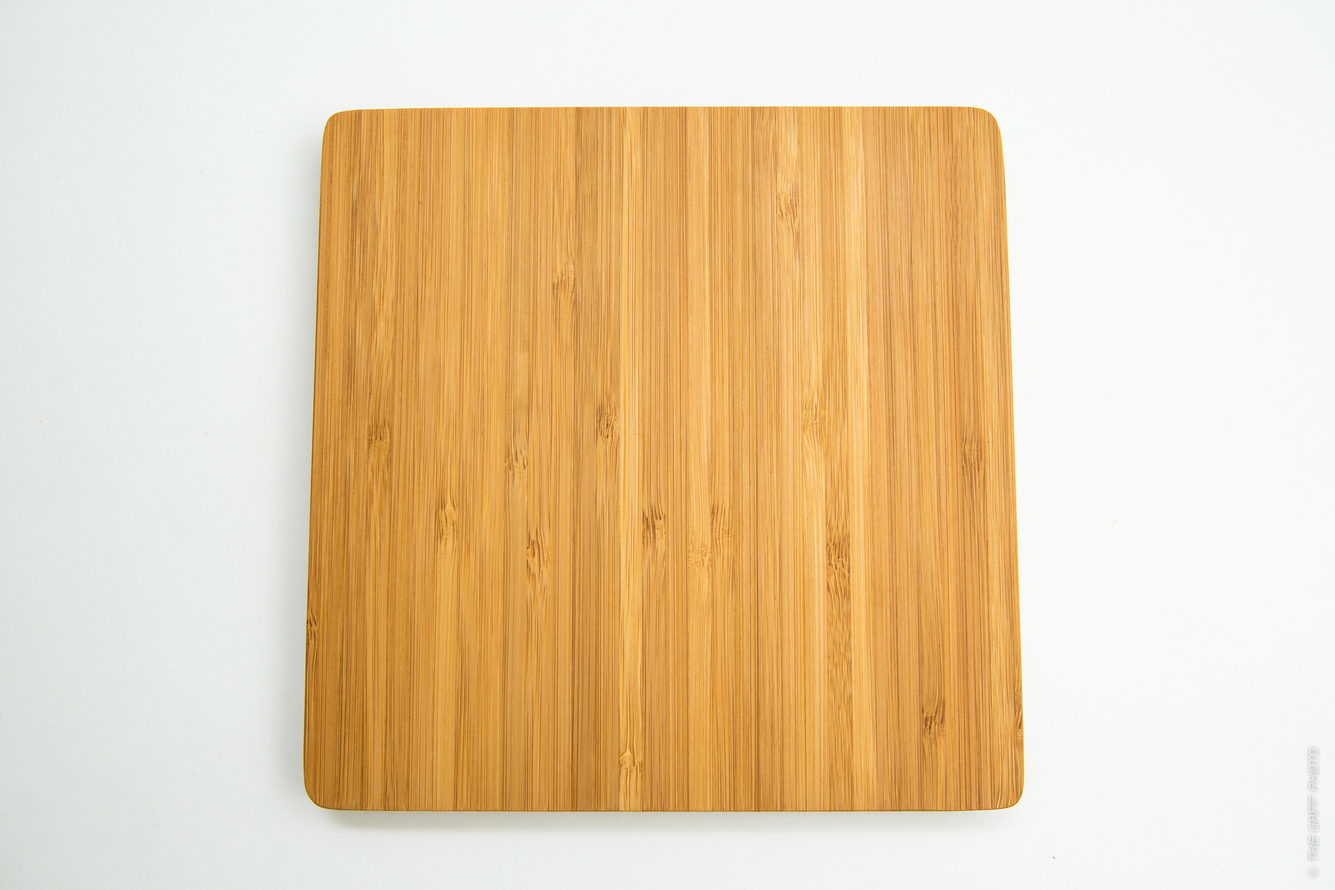gloved_hand: (297, 92, 1040, 839)
